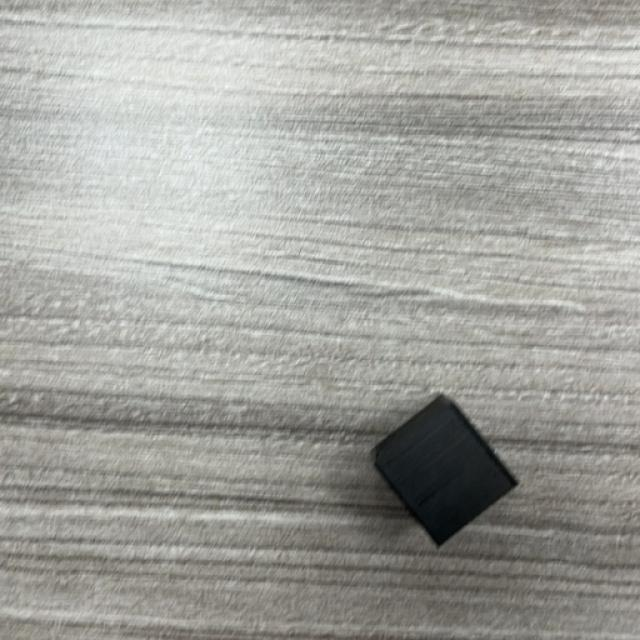Negro: (370, 394, 519, 549)
